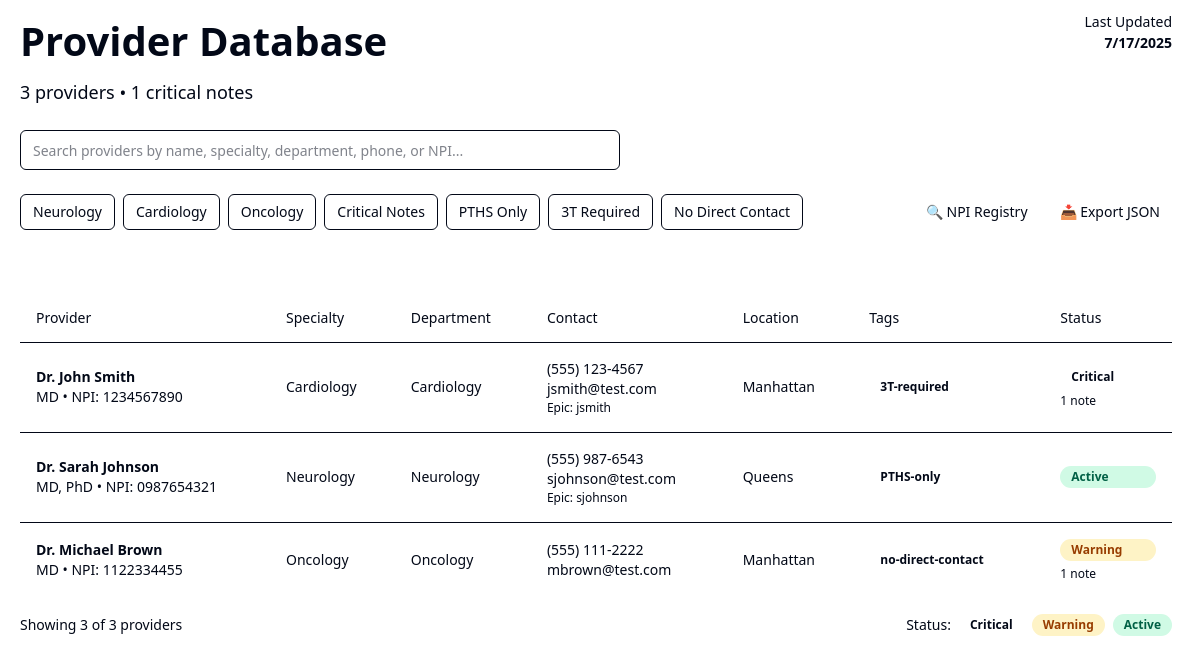
Test: Providers Page › Filter Functionality › filters by department - Neurology
Click the button "Neurology": (68,212) [20,194,115,230]
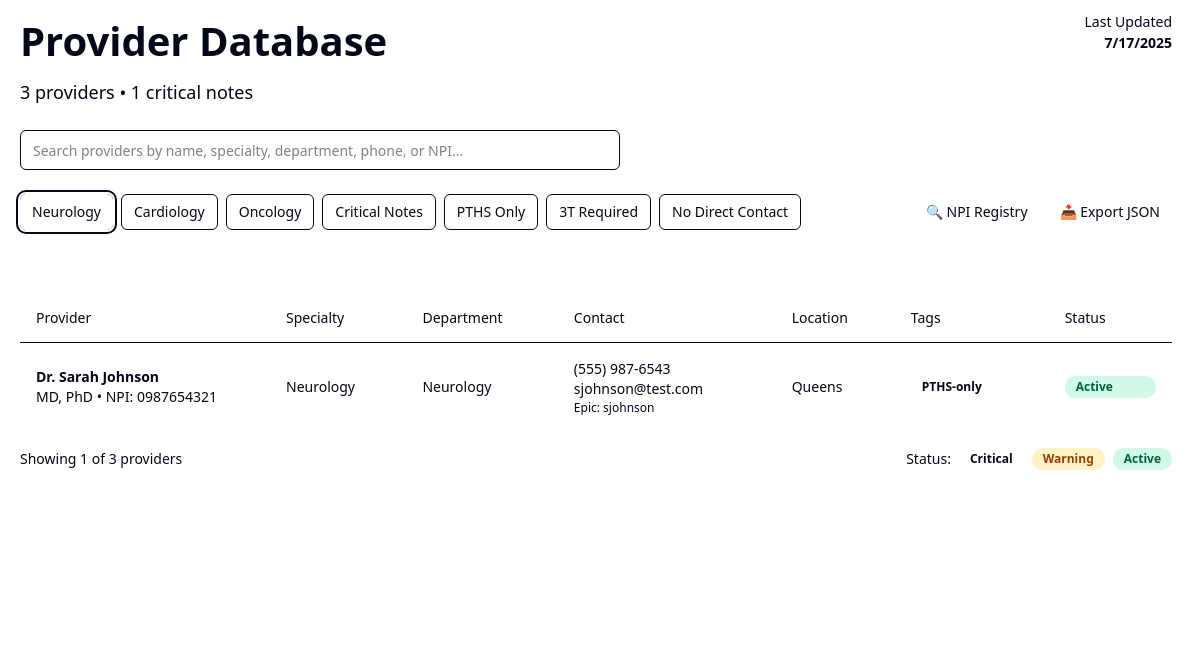
Expected: the text "Dr. Sarah Johnson" is shown, [36,367,159,386]
Expected: the text "Dr. John Smith" is gone
Expected: the text "Dr. Michael Brown" is gone
